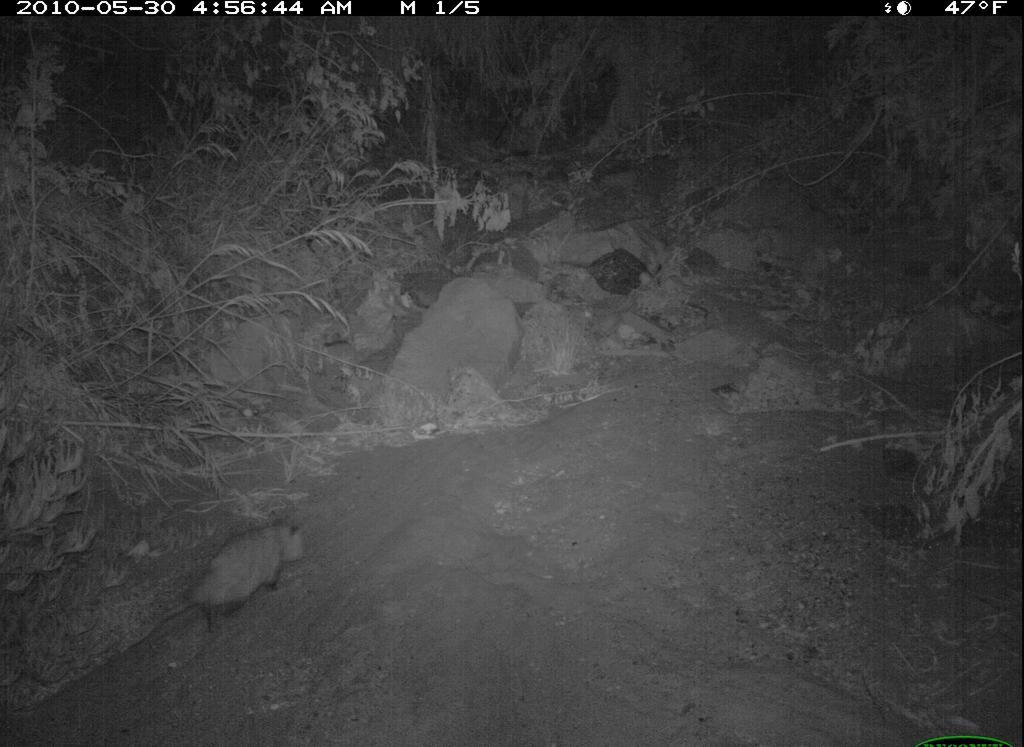opossum: (123, 516, 314, 655)
